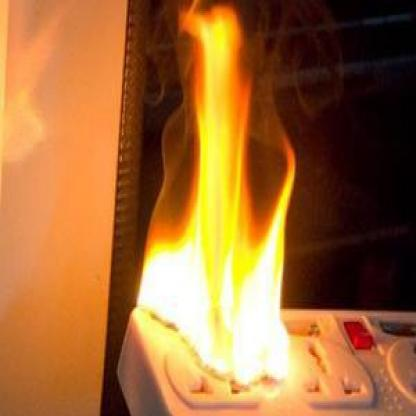fire: (132, 2, 319, 383)
other: (347, 309, 375, 355)
